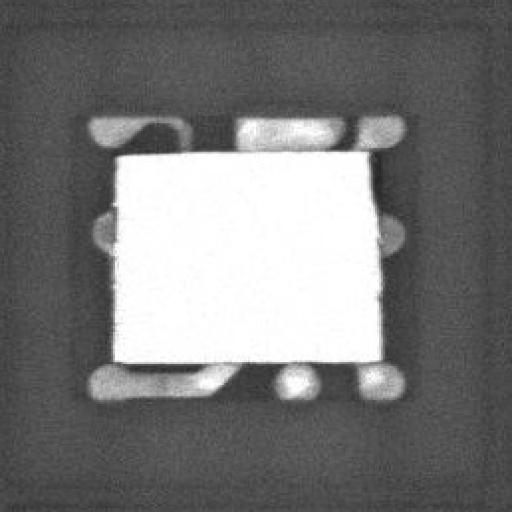DIE_BROKEN: (359, 150, 379, 212)
